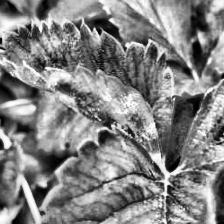Powdery Mildew Leaf: (0, 15, 175, 172)
